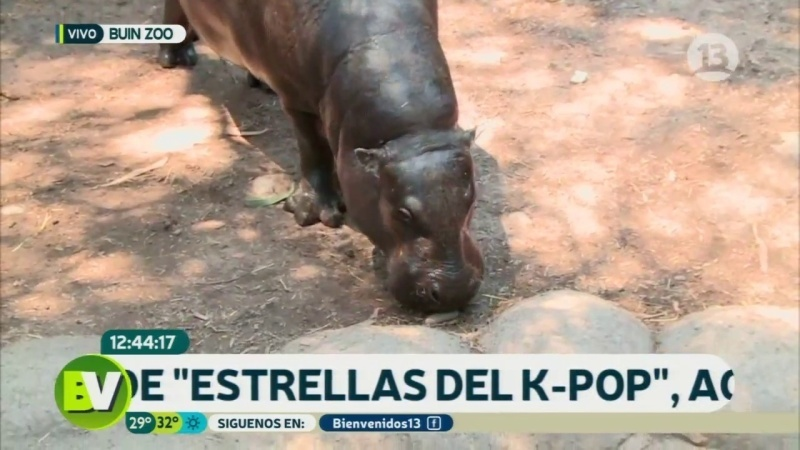hipopotamo: (149, 1, 527, 323)
